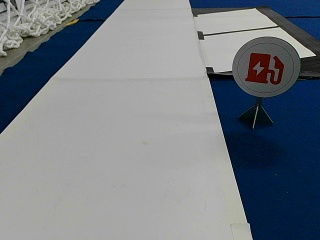battery: (232, 34, 300, 97)
